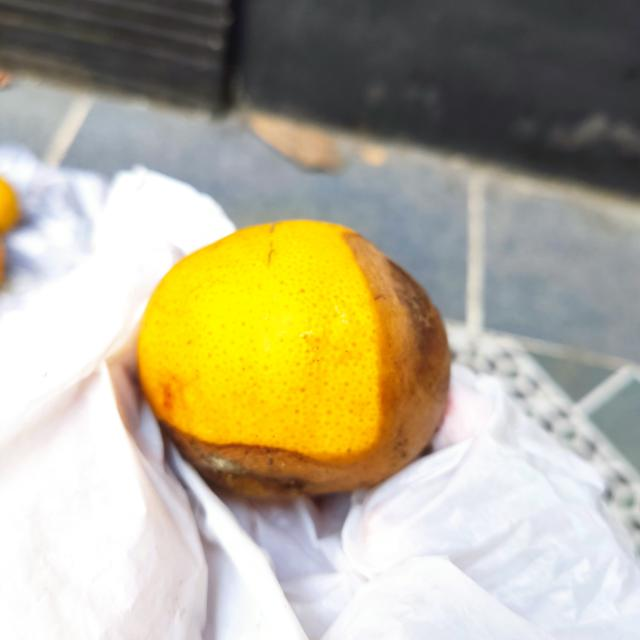orange: (139, 219, 453, 498)
